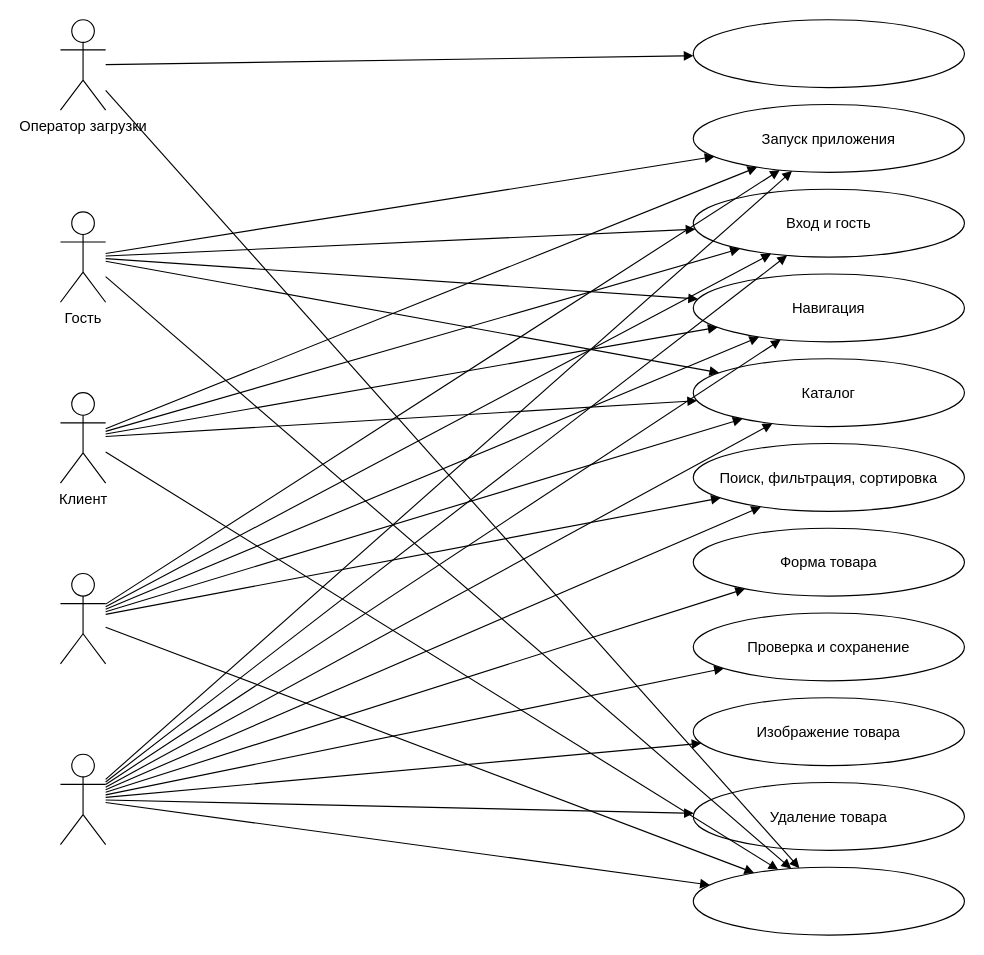
The diagram is 984 pixels wide and 955 high, and some of its shapes have lost their labels. The centre of each missing label's shape, as x and y in pixels:
"Администратор" belongs at point (82, 799).
"Импорт данных" belongs at point (828, 53).
"Менеджер" belongs at point (82, 618).
"Сообщения" belongs at point (828, 900).
